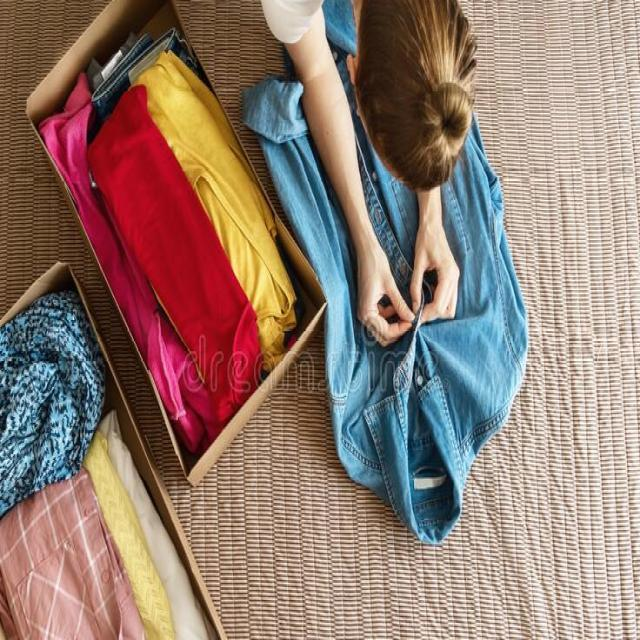clothes: (58, 86, 312, 412)
